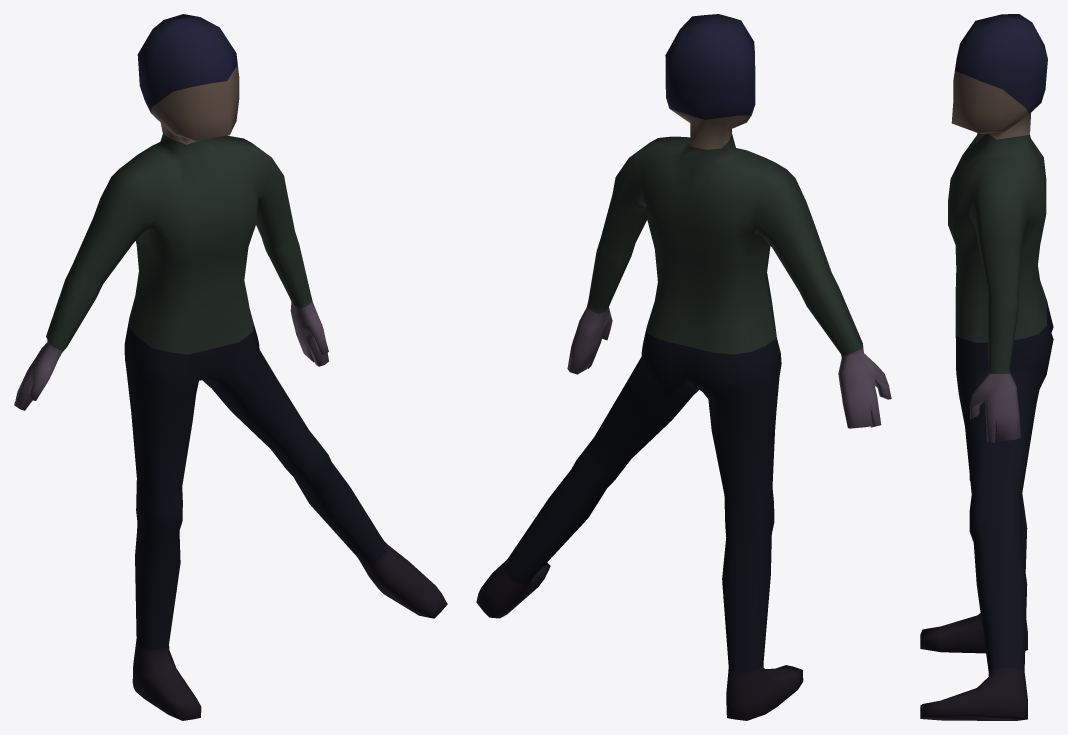
Rendered from THEDUDE.fbx.
3 renders of one model, left to right at view 1: azimuth 30°, elevation 25°; view 2: azimuth 150°, elevation 25°; view 3: azimuth 270°, elevation 25°, orthographic. The views are drawn at different scales.
Parts seen in each view (by area): view 1: Cube; view 2: Cube; view 3: Cube.
Part boxes in pixels (x1=…): Cube: x1=14, y1=14, x2=447, y2=720; Cube: x1=476, y1=14, x2=891, y2=720; Cube: x1=920, y1=14, x2=1053, y2=720.
Size of the model in its own units: 6.34 by 10.17 by 1.91.
1 material, 1 textured.
